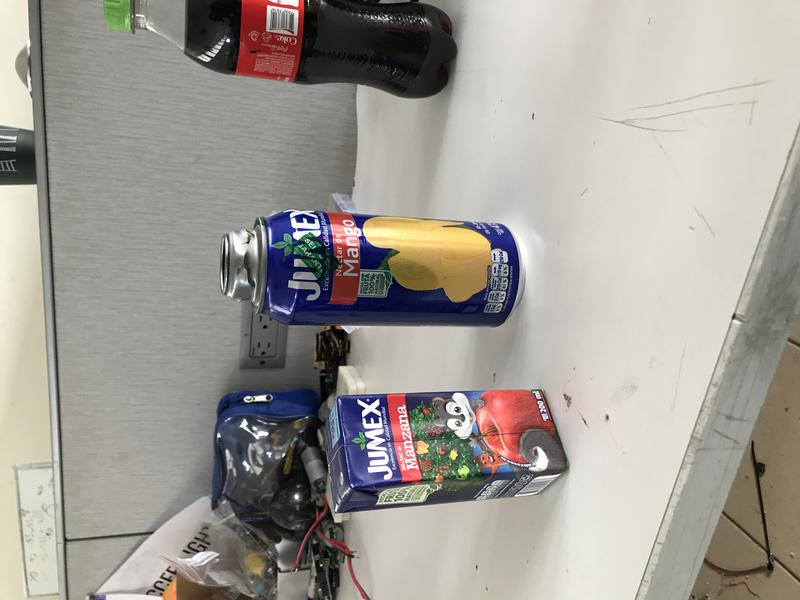jumex_botella: (222, 210, 526, 328)
jumex_cajita: (321, 389, 569, 513)
